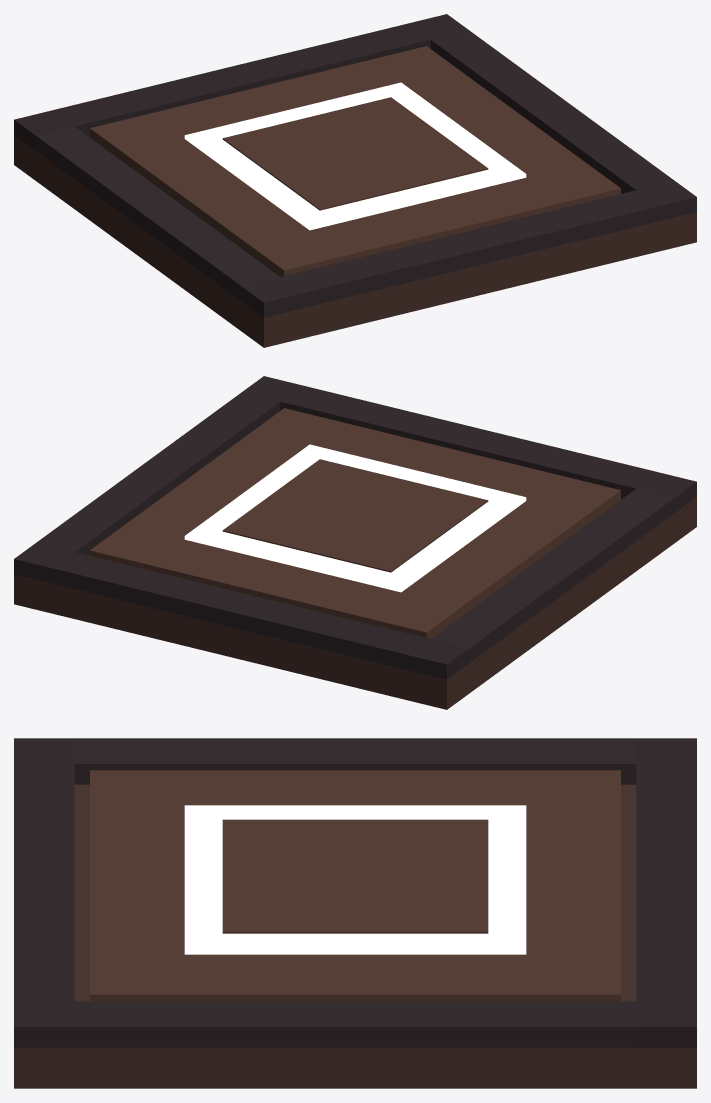
The model's file is pressure_plate.glb.
The picture shows the model from 3 angles, top to bottom: view 1: azimuth 30°, elevation 25°; view 2: azimuth 150°, elevation 25°; view 3: azimuth 270°, elevation 25°; orthographic projection. The views are drawn at different scales.
Visible parts, largest first — view 1: pressure_plate, Plate; view 2: pressure_plate, Plate; view 3: Plate, pressure_plate.
Boxes of the visible parts, x1,y1,x2,y2 form: pressure_plate: (14,14,696,347); Plate: (90,46,620,276); pressure_plate: (14,376,696,709); Plate: (90,408,620,638); Plate: (90,770,620,1001); pressure_plate: (14,738,696,1088).
Bounding box in the file's own units: 1.8 × 0.2 × 1.8.
